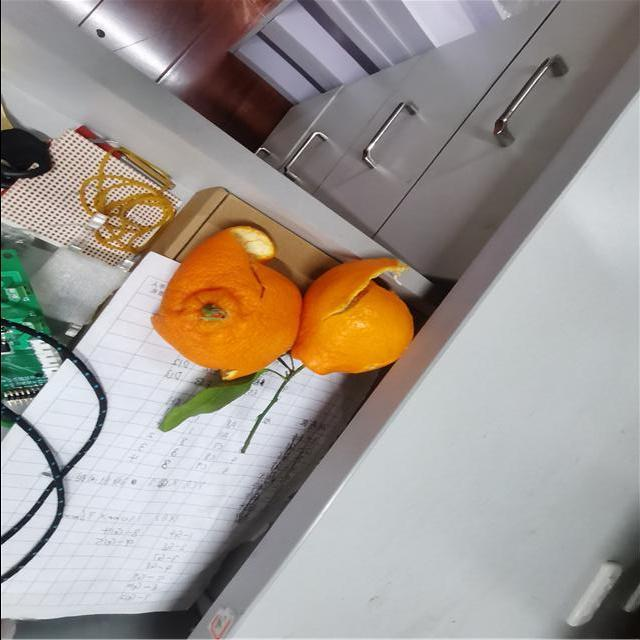orange peel: (146, 225, 308, 376), (286, 252, 413, 376)
